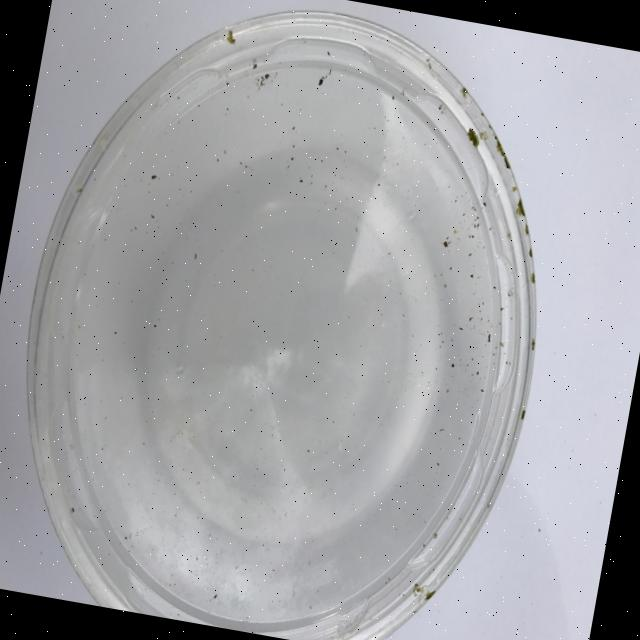plastic: (0, 0, 589, 640)
